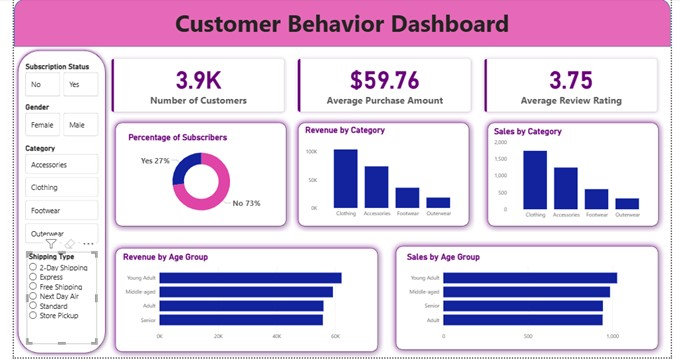

Layout of this report page (visuals, bound fields, positions):
{"tool":"powerbi","page":{"name":"Page 1","canvas":[1500,820],"ordinal":0},"visuals":[{"type":"cardVisual","fields":{"Data":["public customer_data.Number of Customers","public customer_data.Average Purchase Amount","public customer_data.Average Review Rating"]},"box":[194.7,110,1305.3,178.5],"z":0},{"type":"shape","box":[0,0,1500,110],"z":1000},{"type":"textbox","box":[0,14.4,1500,95.6],"z":2000},{"type":"shape","box":[218.1,270.4,416.5,263.2],"z":3000},{"type":"donutChart","title":"Percentage of Subscribers","fields":{"Category":["public customer_data.subscription_status"],"Y":["CountNonNull(public customer_data.customer_id)"]},"box":[256,304.7,342.5,203.7],"z":4000},{"type":"shape","box":[1069.1,270.4,416.5,263.2],"z":5000},{"type":"shape","box":[635.5,270.4,416.5,263.2],"z":6000},{"type":"clusteredColumnChart","title":"Revenue by Category","fields":{"Y":["Sum(public customer_data.purchase_amount)"],"Category":["public customer_data.category"]},"box":[659.9,288.5,371.4,220],"z":7000},{"type":"clusteredColumnChart","title":"Sales by Category","fields":{"Y":["CountNonNull(public customer_data.customer_id)"],"Category":["public customer_data.category"]},"box":[1092.5,292.1,371.4,220],"z":8000},{"type":"shape","box":[0,110,218.1,710.3],"z":9000},{"type":"advancedSlicerVisual","title":"Subscription Status","fields":{"Values":["public customer_data.subscription_status"]},"box":[21.6,144.2,176.7,84.7],"z":10000},{"type":"advancedSlicerVisual","title":"Gender ","fields":{"Values":["public customer_data.gender"]},"box":[21.6,236.2,176.7,82.9],"z":11000},{"type":"advancedSlicerVisual","title":"Category","fields":{"Values":["public customer_data.category"]},"box":[21.6,331.7,176.7,234.4],"z":12000},{"type":"listSlicer","fields":{"Values":["public customer_data.shipping_type"]},"box":[28.8,578.7,160.5,210.9],"z":13000},{"type":"shape","box":[218.1,557.1,625.6,263.2],"z":15000},{"type":"shape","box":[860,553.5,625.6,263.2],"z":16000},{"type":"clusteredBarChart","title":"Sales by Age Group","fields":{"Y":["CountNonNull(public customer_data.customer_id)"],"Category":["public customer_data.age_group"]},"box":[892.4,578.7,571.5,210.9],"z":17000},{"type":"clusteredBarChart","title":"Revenue by Age Group","fields":{"Y":["Sum(public customer_data.purchase_amount)"],"Category":["public customer_data.age_group"]},"box":[245.2,578.7,571.5,210.9],"z":17001}]}

Visuals, with their boxes in screenshot pixels (x1, y1, x2, y2), scaled from the page's 1500x820 canvas onto the 680x362 screenshot:
cardVisual - public customer_data.Number of Customers x public customer_data.Average Purchase Amount: region(88, 49, 679, 127)
shape: region(0, 0, 679, 49)
textbox: region(0, 6, 679, 49)
shape: region(99, 119, 288, 236)
"Percentage of Subscribers" donutChart: region(116, 135, 271, 224)
shape: region(485, 119, 673, 236)
shape: region(288, 119, 477, 236)
"Revenue by Category" clusteredColumnChart: region(299, 127, 468, 224)
"Sales by Category" clusteredColumnChart: region(495, 129, 664, 226)
shape: region(0, 49, 99, 361)
"Subscription Status" advancedSlicerVisual: region(10, 64, 90, 101)
"Gender " advancedSlicerVisual: region(10, 104, 90, 141)
"Category" advancedSlicerVisual: region(10, 146, 90, 250)
listSlicer - public customer_data.shipping_type: region(13, 255, 86, 349)
shape: region(99, 246, 382, 361)
shape: region(390, 244, 673, 361)
"Sales by Age Group" clusteredBarChart: region(405, 255, 664, 349)
"Revenue by Age Group" clusteredBarChart: region(111, 255, 370, 349)
